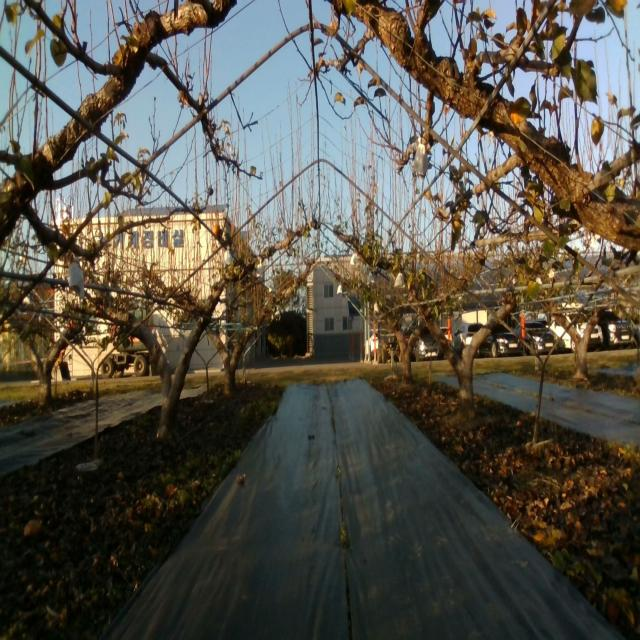pearbags: (67, 256, 85, 298), (414, 137, 428, 181), (223, 246, 233, 270)
